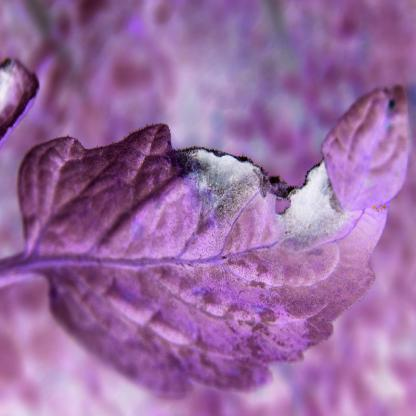Tomato leaf mosaic virus: (16, 109, 402, 405)
